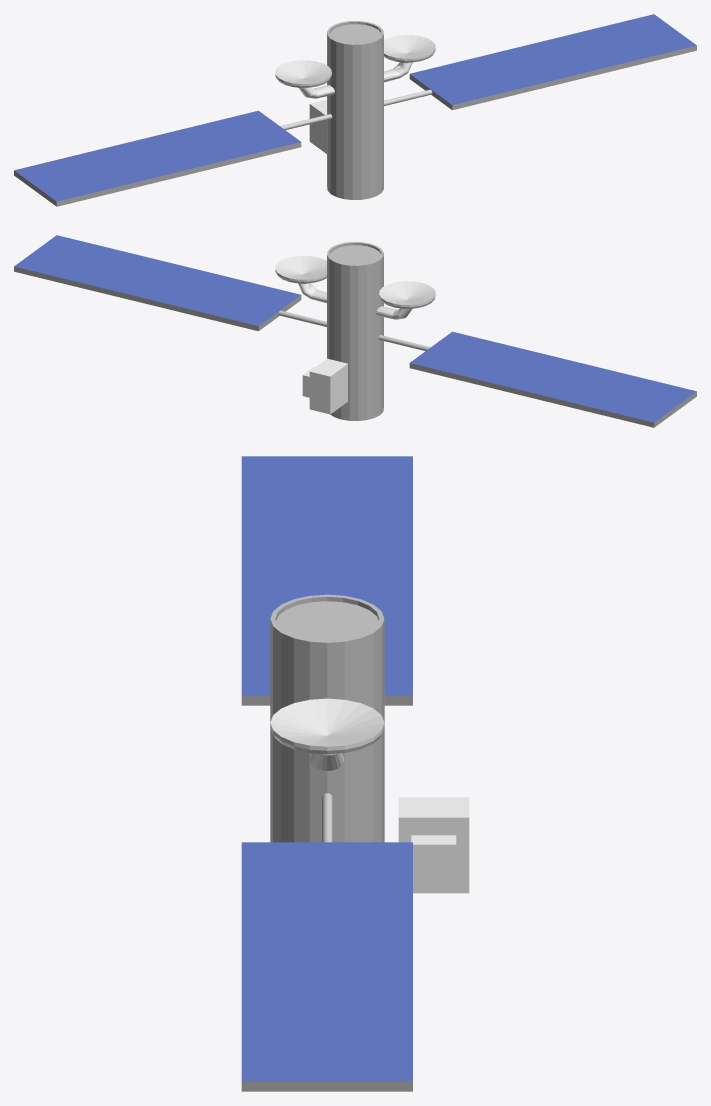
Rendered from generic-bus.glb.
The picture shows the model from 3 angles, top to bottom: view 1: azimuth 30°, elevation 25°; view 2: azimuth 150°, elevation 25°; view 3: azimuth 270°, elevation 25°; orthographic projection. The views are drawn at different scales.
Parts seen in each view (by area): view 1: SatWing1.001, SatWing2, pCylinder2, SatRadioDish2, SatRadioDish1, pCube1; view 2: SatWing1.001, SatWing2, pCylinder2, pCube1, SatRadioDish2, SatRadioDish1; view 3: SatWing2, SatWing1.001, pCylinder2, pCube1, SatRadioDish1.
Part boxes in pixels (x1=…): SatWing1.001: x1=14, y1=110, x2=301, y2=206; SatWing2: x1=409, y1=14, x2=696, y2=110; pCylinder2: x1=327, y1=21, x2=383, y2=199; SatRadioDish2: x1=275, y1=60, x2=334, y2=98; SatRadioDish1: x1=384, y1=35, x2=435, y2=82; pCube1: x1=309, y1=99, x2=326, y2=153; SatWing1.001: x1=409, y1=331, x2=696, y2=427; SatWing2: x1=14, y1=235, x2=301, y2=331; pCylinder2: x1=327, y1=242, x2=383, y2=420; pCube1: x1=302, y1=358, x2=347, y2=414; SatRadioDish2: x1=376, y1=281, x2=435, y2=319; SatRadioDish1: x1=275, y1=256, x2=326, y2=303; SatWing2: x1=241, y1=842, x2=412, y2=1091; SatWing1.001: x1=241, y1=456, x2=412, y2=705; pCylinder2: x1=270, y1=594, x2=384, y2=842; pCube1: x1=398, y1=797, x2=469, y2=893; SatRadioDish1: x1=270, y1=698, x2=384, y2=770.
Bounding box in the file's own units: 0.259 × 0.06 × 0.0398.
